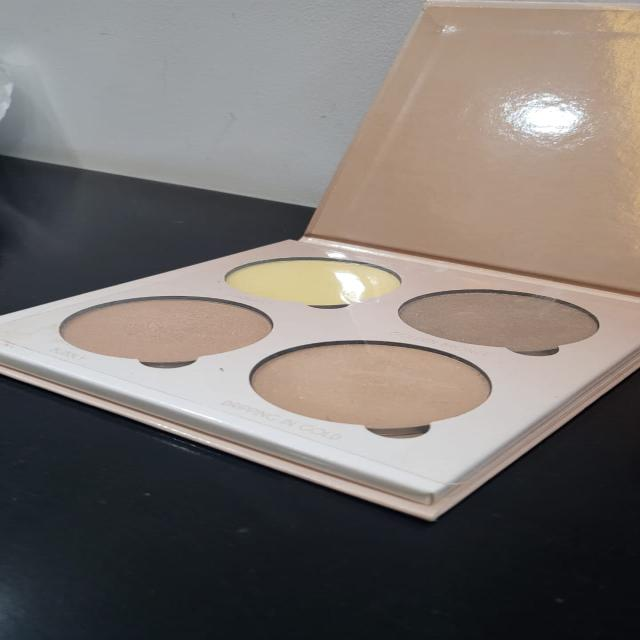concealer: (39, 236, 638, 469)
